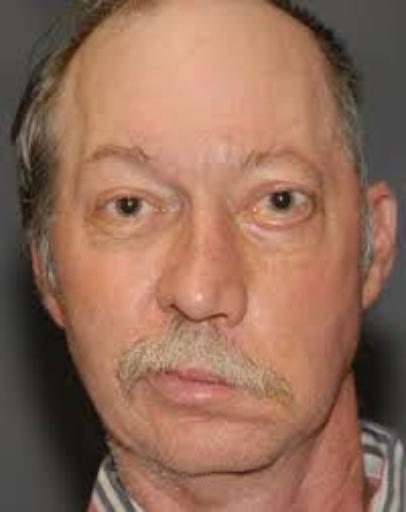left_eye: (246, 191, 315, 227)
left_lip_corner: (224, 375, 251, 398)
right_eye: (97, 194, 169, 226)
right_lip_corner: (140, 361, 183, 392)
